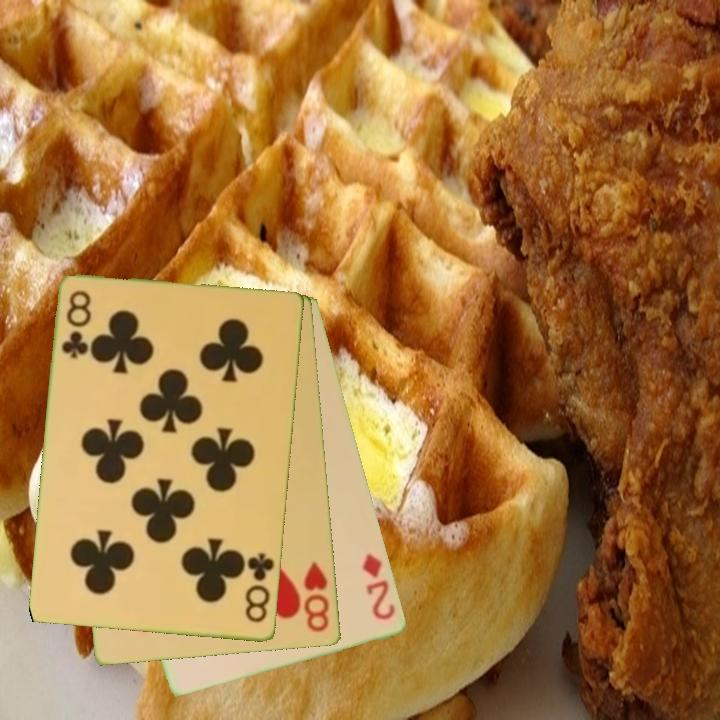2d: (359, 551, 399, 624)
8c: (58, 287, 94, 362), (242, 549, 277, 626)
8h: (301, 558, 333, 636)
